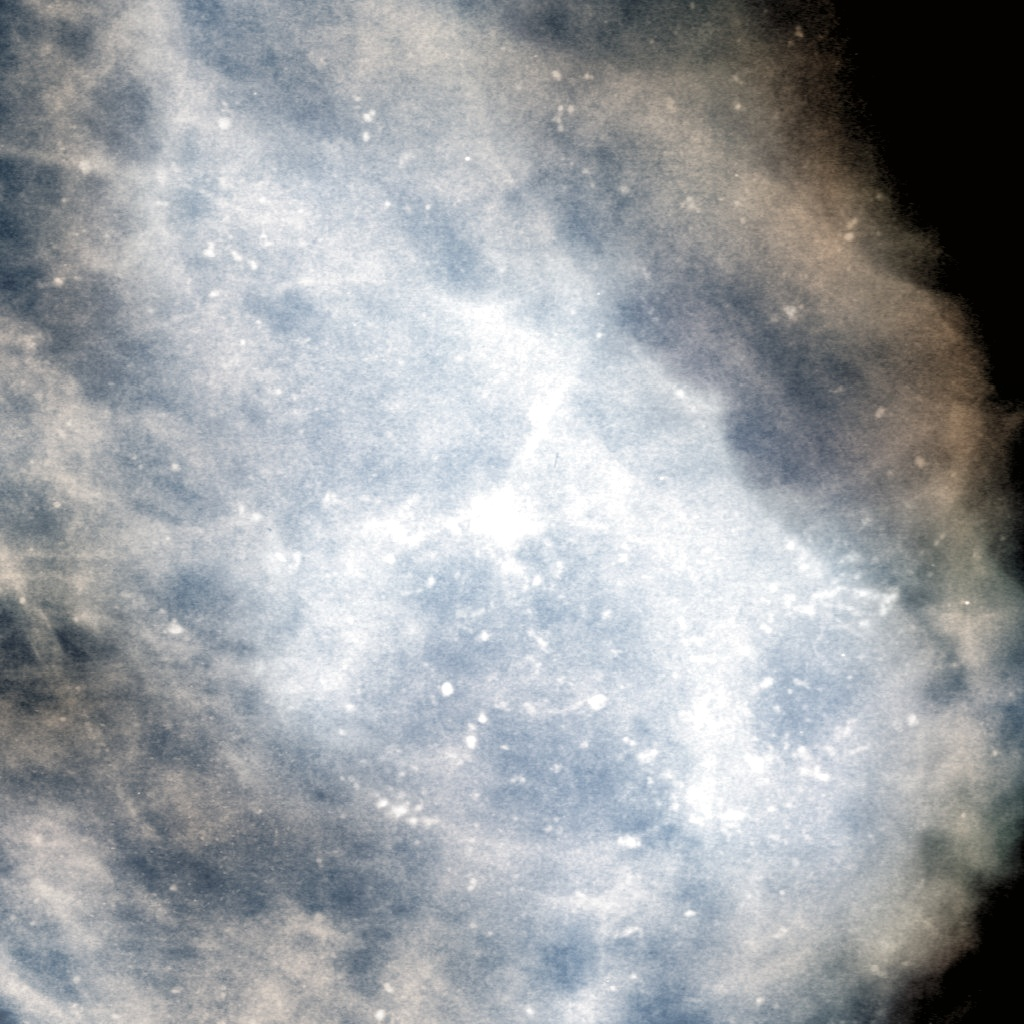tumor: (82, 106, 942, 918)
